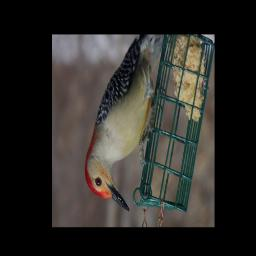Woodpecker: (85, 35, 163, 212)
